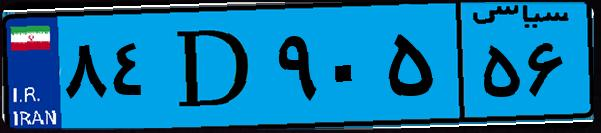0: (330, 28, 385, 110)
4: (110, 28, 158, 98)
5: (385, 28, 445, 110), (475, 38, 525, 113)
6: (525, 38, 570, 115)
8: (57, 26, 110, 100)
9: (270, 28, 330, 110)
D: (158, 12, 270, 120)
